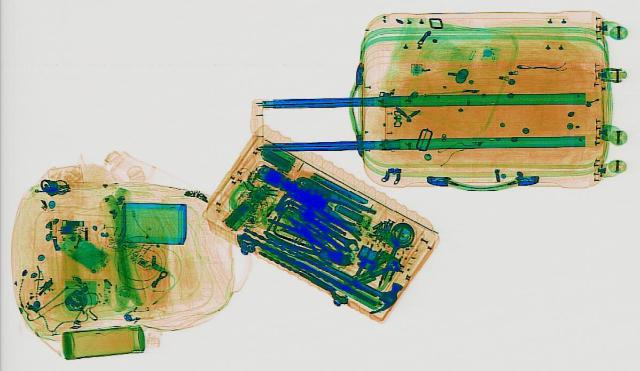Wrench: (292, 209, 364, 252)
